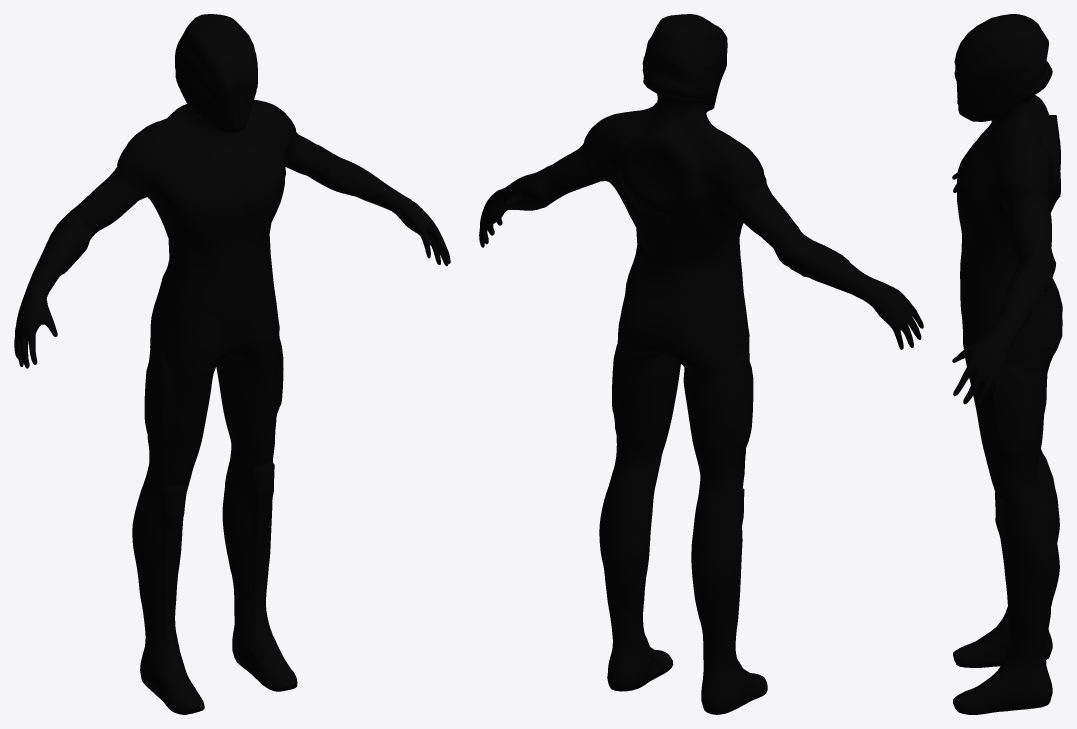
The model's file is male.glb.
3 renders of one model, left to right at view 1: azimuth 30°, elevation 25°; view 2: azimuth 150°, elevation 25°; view 3: azimuth 270°, elevation 25°, orthographic.
Parts seen in each view (by area): view 1: TronCharacter; view 2: TronCharacter; view 3: TronCharacter.
Part boxes in pixels (bbox=[...]): TronCharacter: bbox=[14, 14, 450, 714]; TronCharacter: bbox=[479, 14, 923, 714]; TronCharacter: bbox=[952, 14, 1062, 714].
Bounding box in the file's own units: 201 × 300 × 45.11.
Materials: 1 (1 with a texture image).
